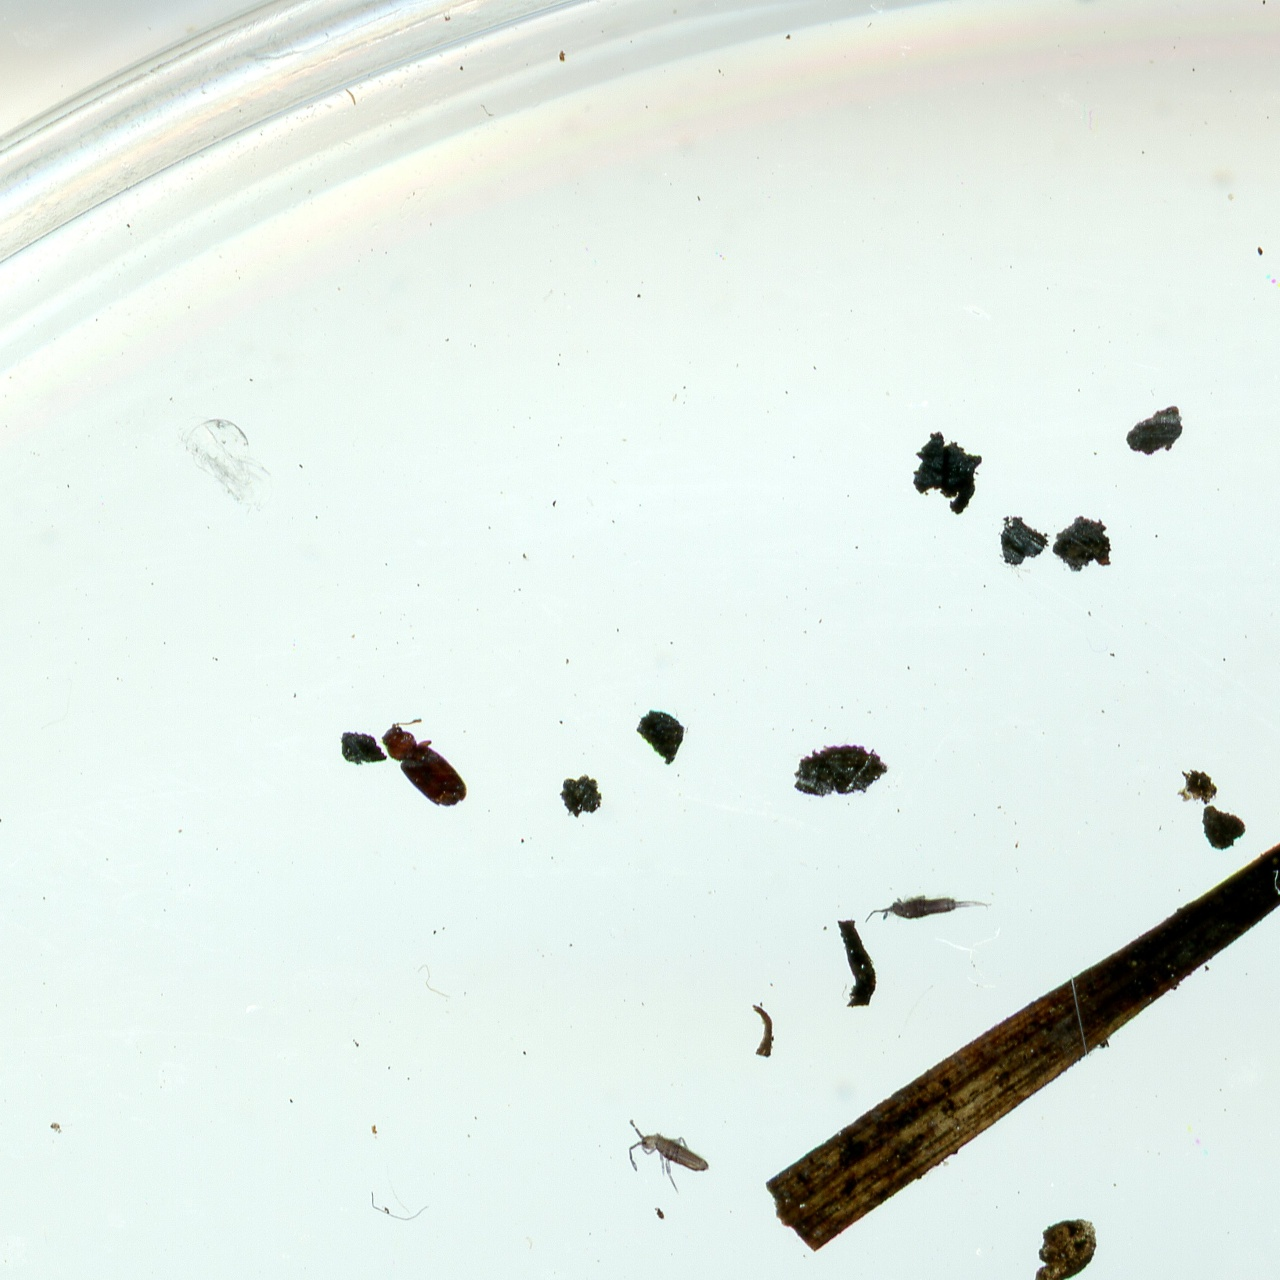arthropod: (368, 700, 479, 829), (621, 1112, 720, 1201), (857, 886, 1001, 932)
